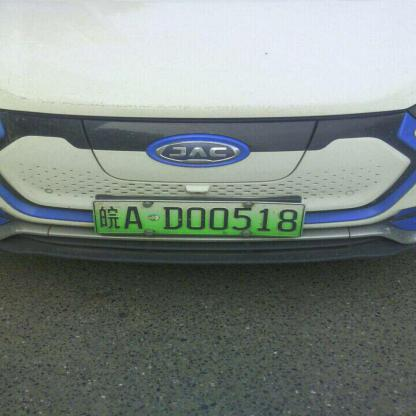lp: (93, 201, 304, 237)
